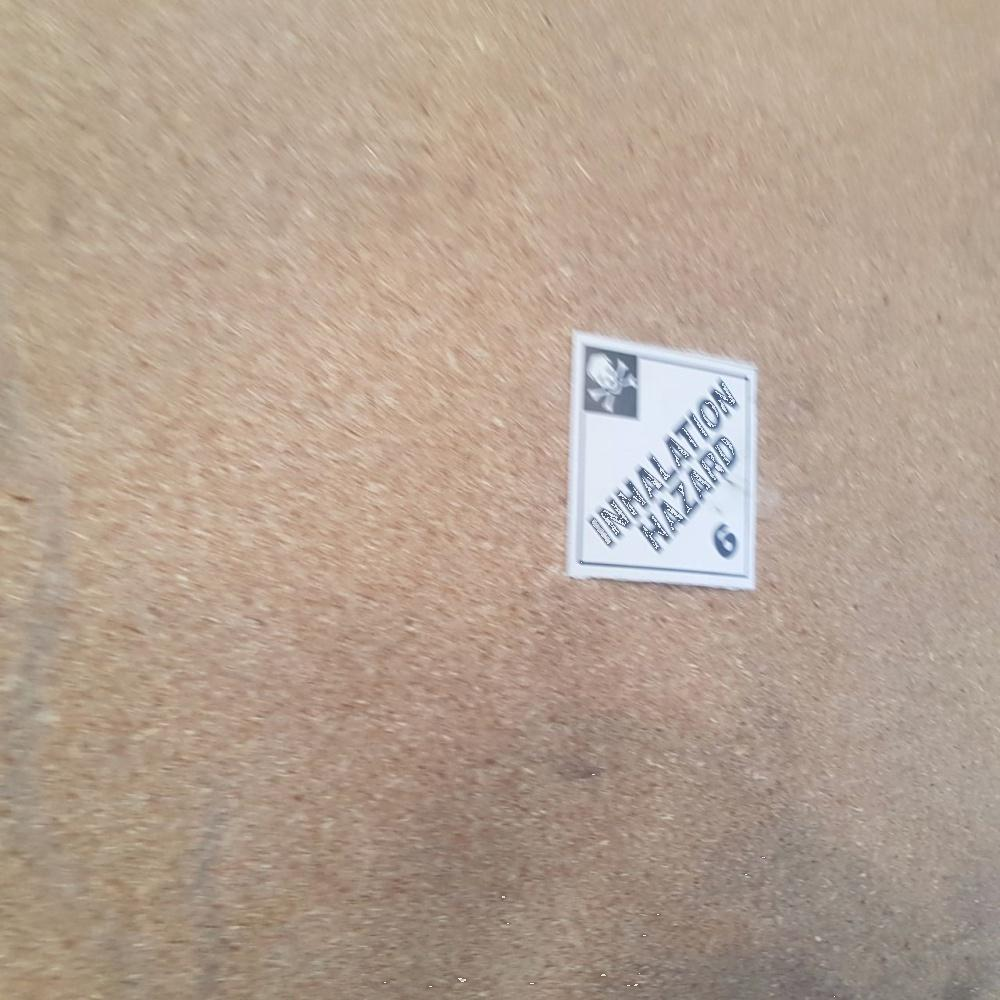poison: (562, 327, 758, 591)
